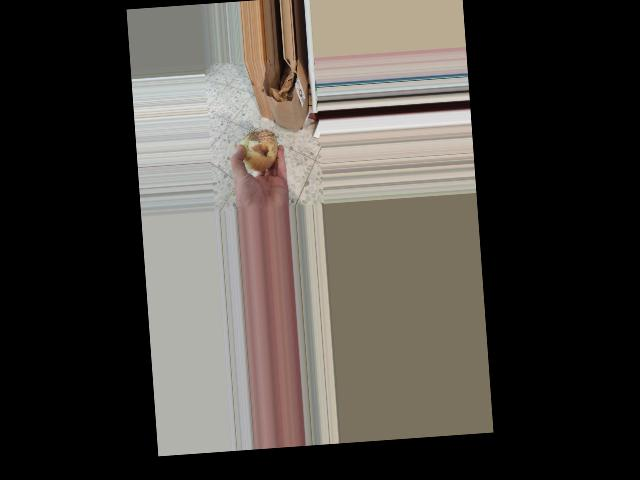onion: (232, 128, 280, 175)
